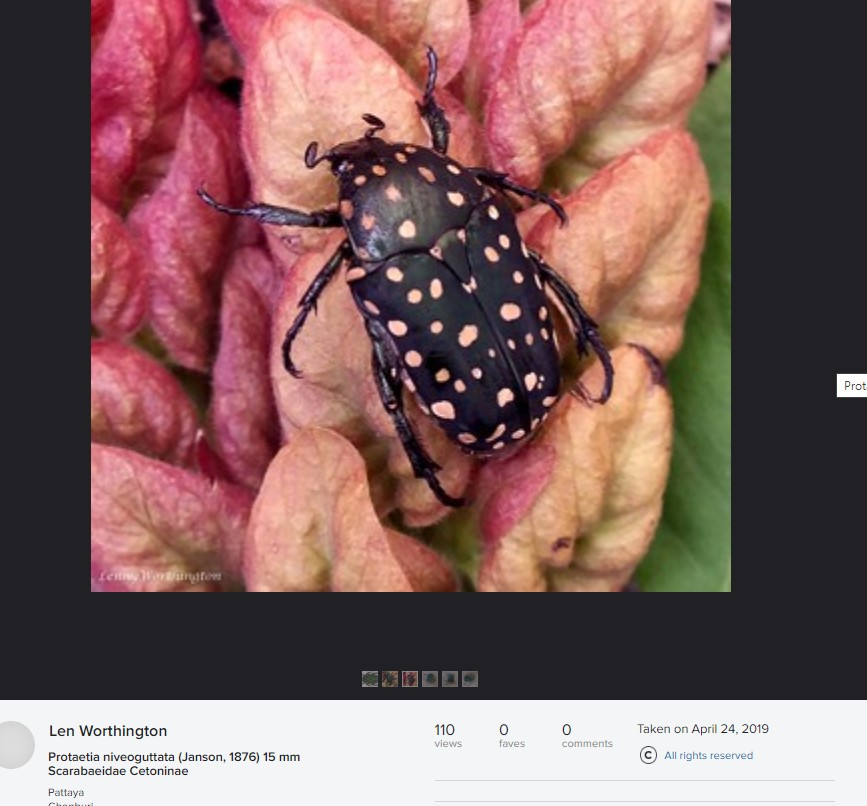Protaetia_niveoguttata: (192, 38, 616, 509)
